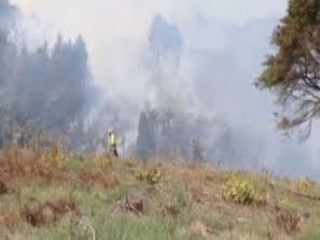smoke: (135, 38, 207, 124)
